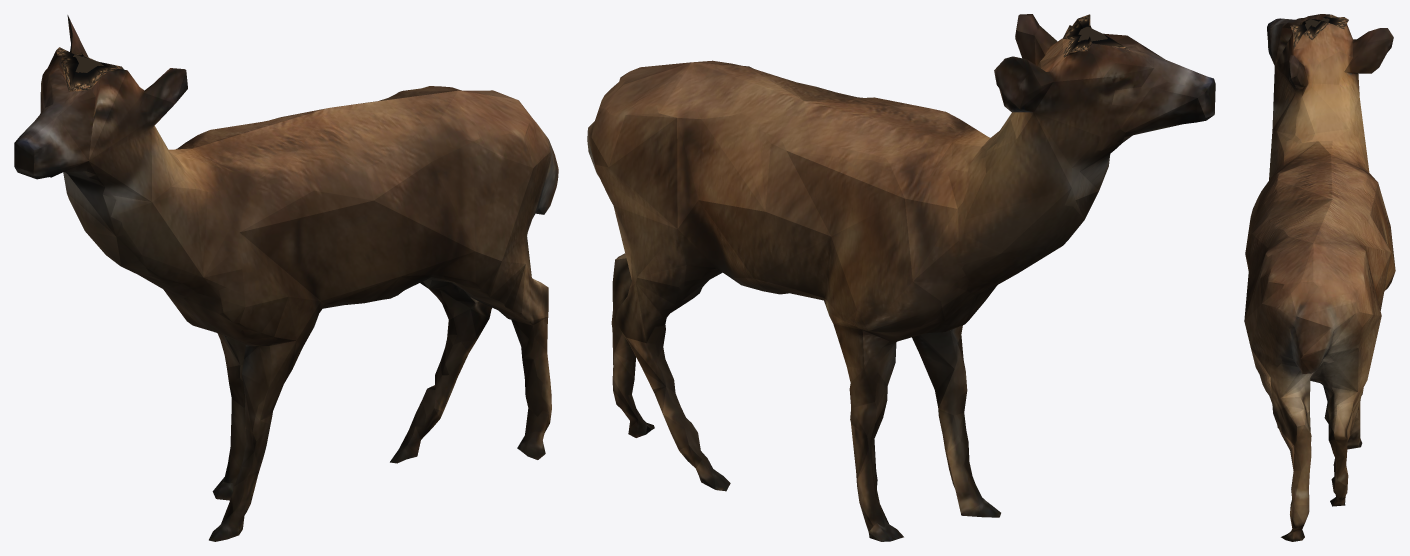
File: deer chaild.fbx
3 views of the same model, side by side, from view 1: azimuth 30°, elevation 25°; view 2: azimuth 150°, elevation 25°; view 3: azimuth 270°, elevation 25° (orthographic). The views are drawn at different scales.
Parts seen in each view (by area): view 1: Deer; view 2: Deer; view 3: Deer.
Boxes of the visible parts, left/top/right/bottom form: Deer: left=14, top=15, right=558, bottom=541; Deer: left=587, top=14, right=1215, bottom=541; Deer: left=1244, top=14, right=1395, bottom=541.
Bounding box in the file's own units: 100 × 85.29 × 31.72.
